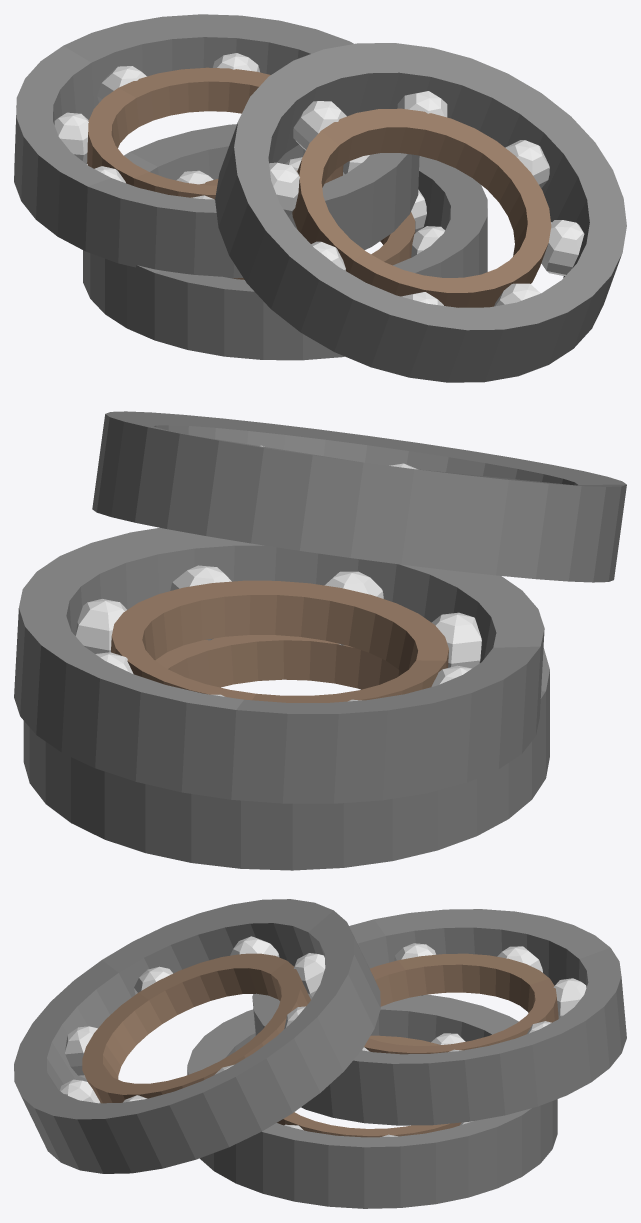
File: Fastener Bundle.glb
The picture shows the model from 3 angles, top to bottom: view 1: azimuth 30°, elevation 25°; view 2: azimuth 150°, elevation 25°; view 3: azimuth 270°, elevation 25°; orthographic projection. The views are drawn at different scales.
Visible parts, largest first — view 1: Sphere.002, Sphere.001, Sphere.003; view 2: Sphere.001, Sphere.002, Sphere.003; view 3: Sphere.002, Sphere.001, Sphere.003.
Part boxes in pixels (<box>): Sphere.002: <box>215,43,626,382</box>; Sphere.001: <box>14,14,419,278</box>; Sphere.003: <box>83,124,487,360</box>; Sphere.001: <box>14,528,544,803</box>; Sphere.002: <box>92,411,626,582</box>; Sphere.003: <box>23,635,549,870</box>; Sphere.002: <box>14,899,380,1173</box>; Sphere.001: <box>252,909,626,1125</box>; Sphere.003: <box>187,994,557,1208</box>.
Size of the model in its own units: 0.7921 by 0.4033 by 1.09.
9 materials, 6 textured.
